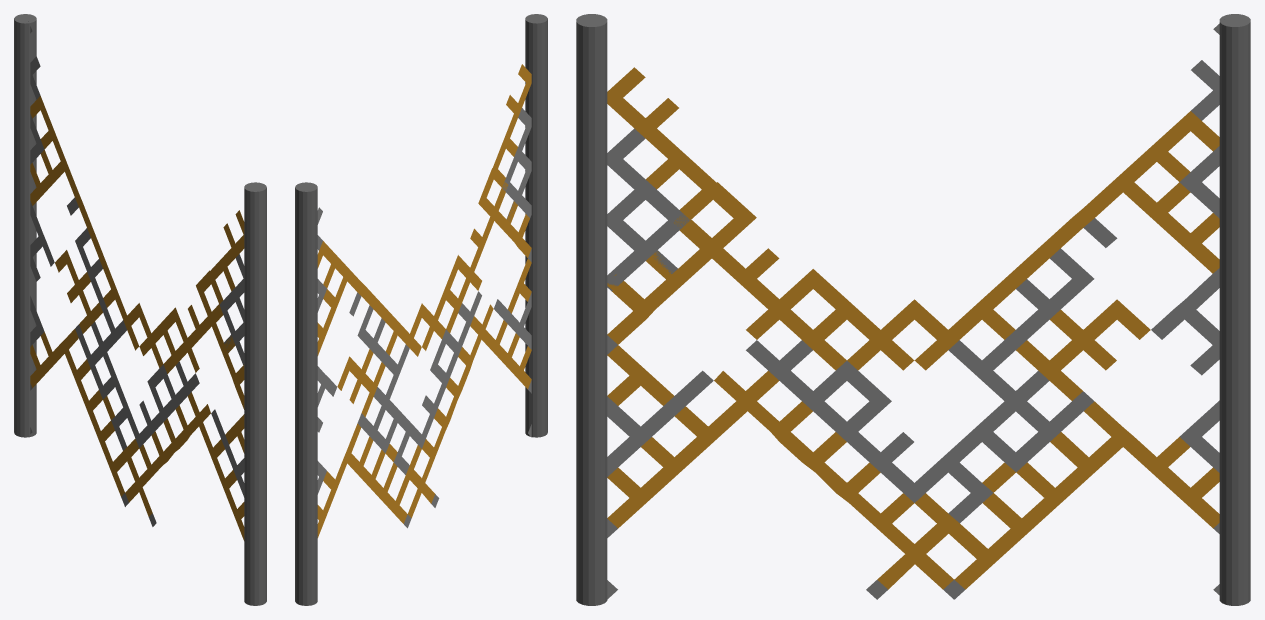
Rendered from fence3.glb.
3 renders of one model, left to right at view 1: azimuth 30°, elevation 25°; view 2: azimuth 150°, elevation 25°; view 3: azimuth 270°, elevation 25°, orthographic. The views are drawn at different scales.
Parts seen in each view (by area): view 1: Grid.003; view 2: Grid.003; view 3: Grid.003.
Boxes of the visible parts, x1,y1,x2,y2 form: Grid.003: (14,14,266,605); Grid.003: (295,14,547,605); Grid.003: (576,14,1250,605).
Bounding box in the file's own units: 0.2205 × 4.55 × 4.78.
1 material, 1 textured.
